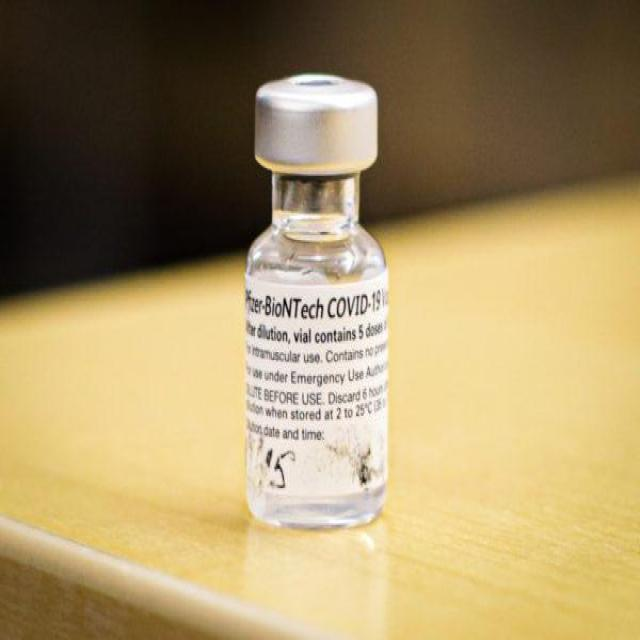B3: (235, 61, 398, 539)
